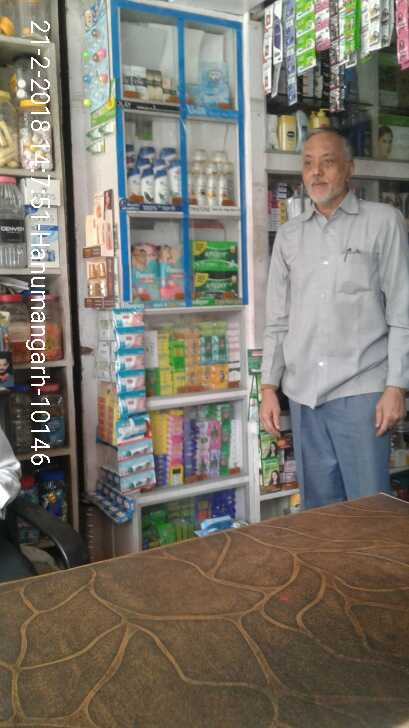venus: (202, 60, 230, 106), (187, 82, 202, 106)
